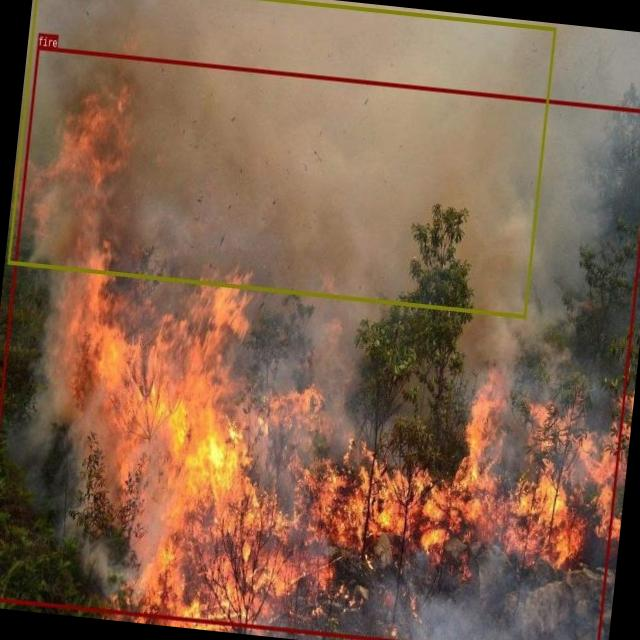fire: (0, 46, 640, 640)
smoke: (6, 0, 556, 317)
